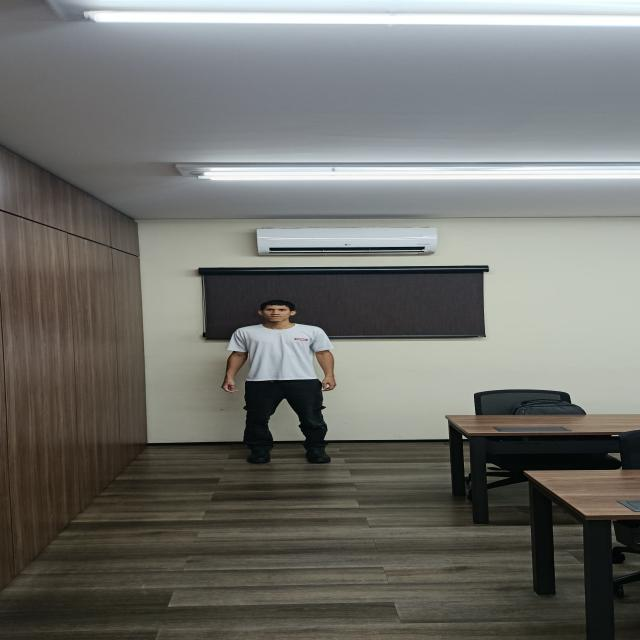sem_oculos: (256, 308, 296, 312)
